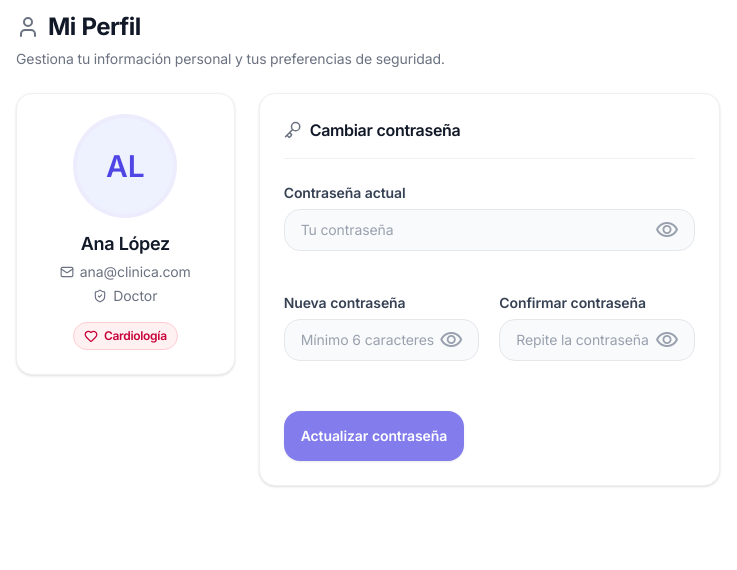
Test case: ProfilePage › updates the password, shows the success message and clears the fields
Type "actual123" into the password field labelled "Contraseña actual" at (489, 230), box [284, 209, 695, 251]
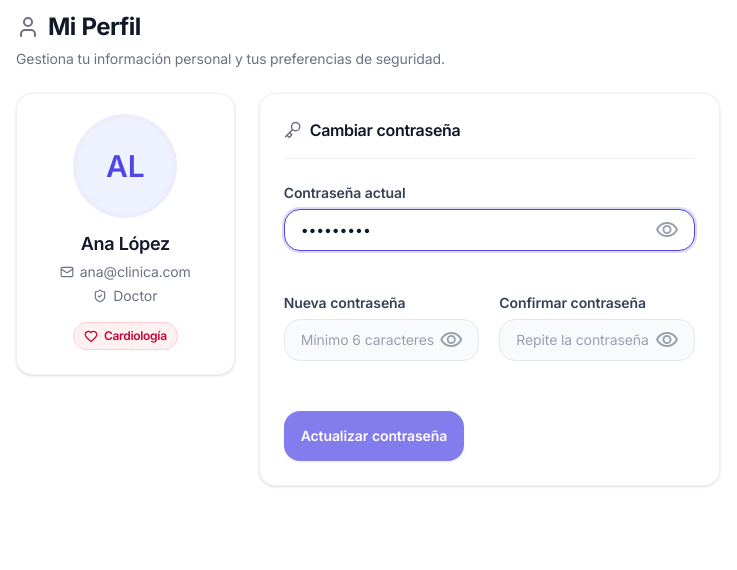
Type "nueva123" into the password field labelled "Nueva contraseña" at (382, 340), box [284, 319, 479, 361]
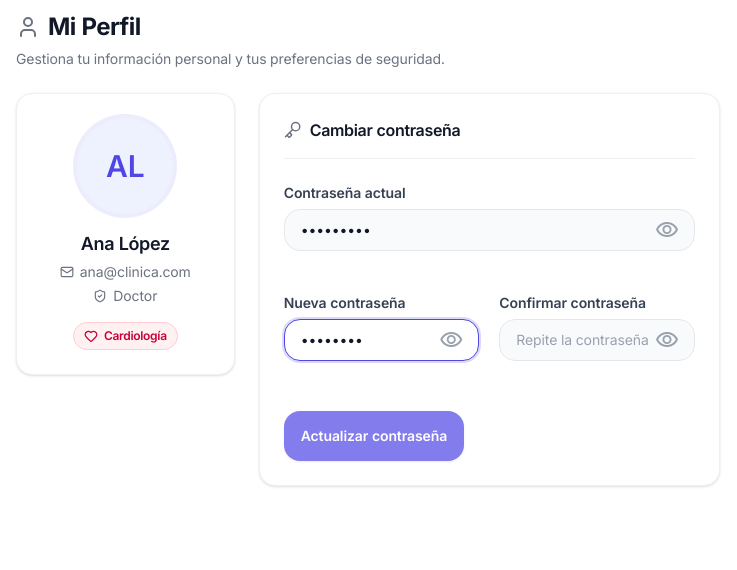
Type "nueva123" into the password field labelled "Confirmar contraseña" at (597, 340), box [499, 319, 695, 361]
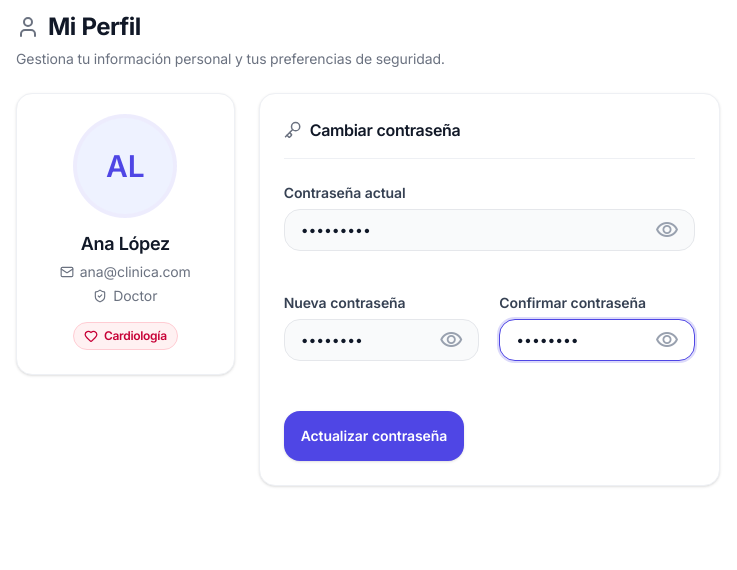
Click the button "Actualizar contraseña" at (374, 436), box [284, 411, 464, 461]
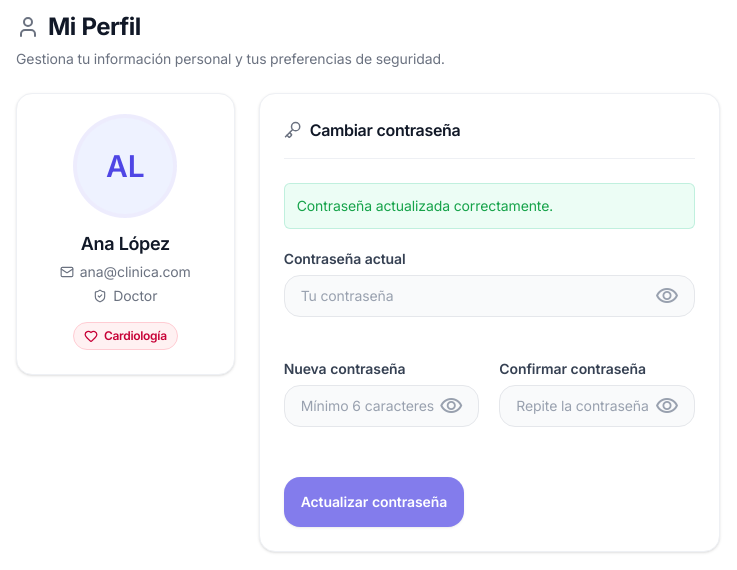
Result: the text "Contraseña actualizada correctamente." is shown at [297, 197, 553, 214]
Result: the password field labelled "Contraseña actual" is empty at [284, 275, 695, 317]
Result: the password field labelled "Nueva contraseña" is empty at [284, 385, 479, 427]
